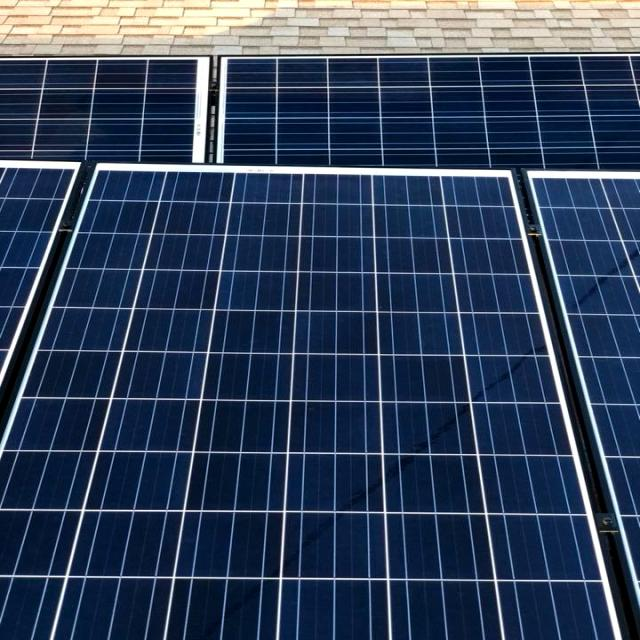crack: (18, 163, 640, 640), (208, 48, 640, 216), (0, 46, 253, 180)
